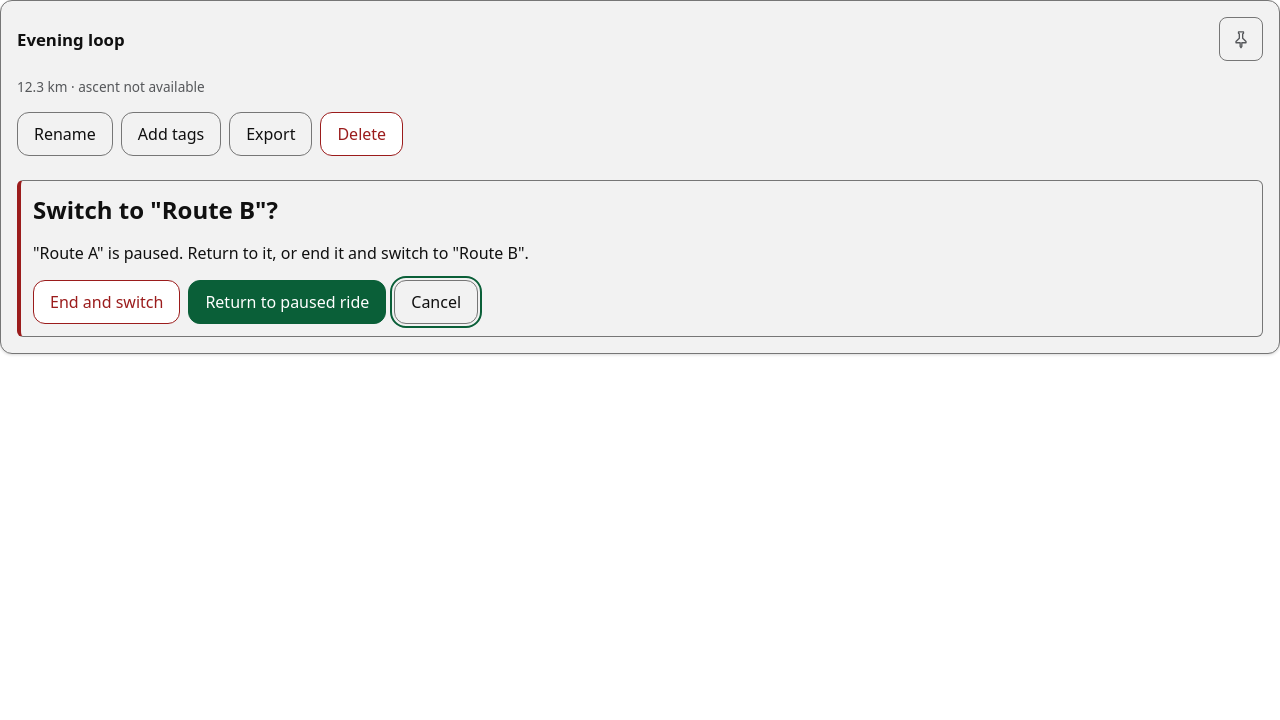
Test case: RouteListItem › tag editor › opening the tag editor while this card's switch prompt is actionable cancels it first, then opens
The width and height of the screenshot is (1280, 720).
Click the button "Add tags".
click(171, 134)  # box top-left (121, 112), bottom-right (221, 156)
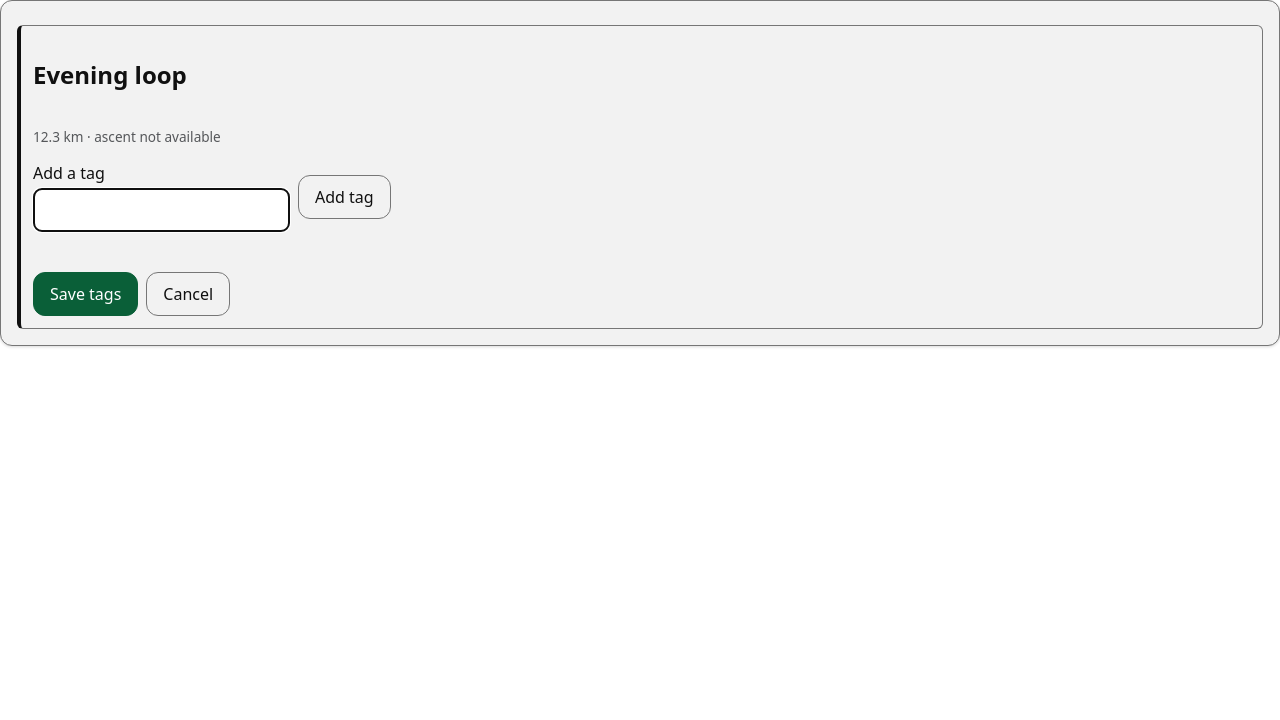
Now the button "Save tags" is shown, box top-left (33, 272), bottom-right (138, 316)
